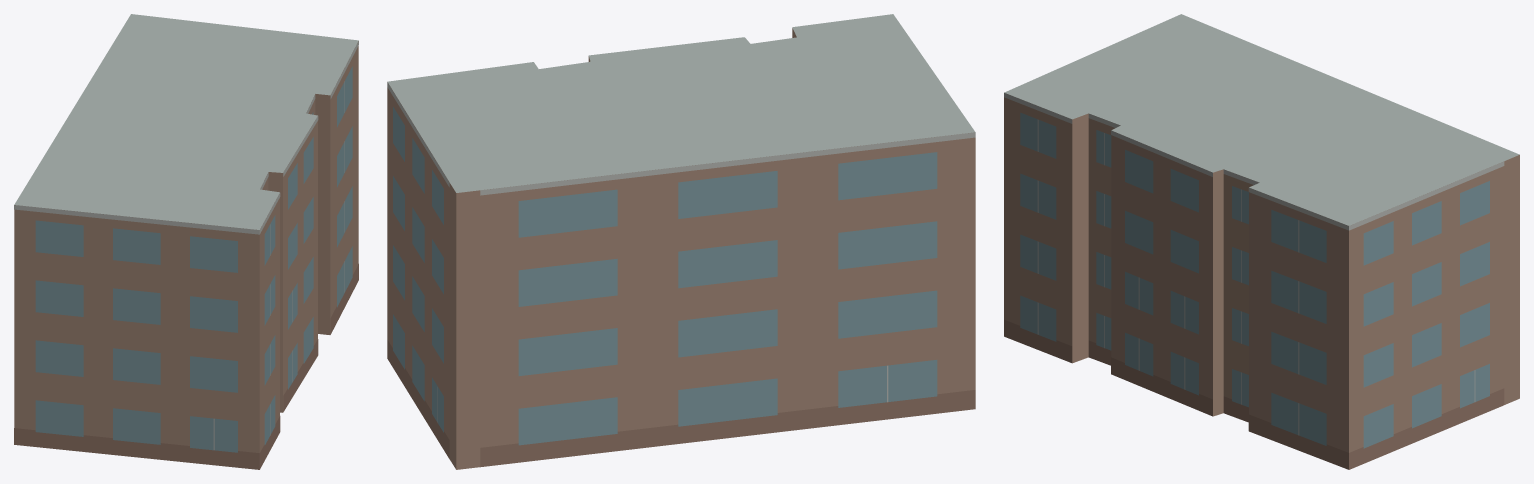
The model's file is survey-upis-32615115.glb.
3 views of the same model, side by side, from view 1: azimuth 30°, elevation 25°; view 2: azimuth 150°, elevation 25°; view 3: azimuth 270°, elevation 25° (orthographic). The views are drawn at different scales.
Parts seen in each view (by area): view 1: survey-upis-32615115.tmp; view 2: survey-upis-32615115.tmp; view 3: survey-upis-32615115.tmp.
Part boxes in pixels (x1,y1,x2,y2): survey-upis-32615115.tmp: (14, 14, 358, 469); survey-upis-32615115.tmp: (387, 14, 975, 469); survey-upis-32615115.tmp: (1004, 14, 1519, 469).
Bounding box in the file's own units: 23.86 × 12.8 × 24.53.
